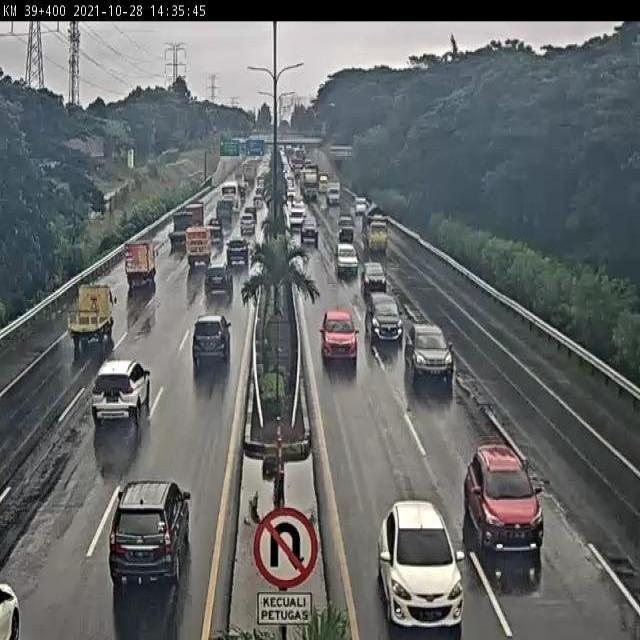big truck: (301, 169, 322, 204)
car: (367, 495, 466, 637), (94, 473, 200, 596), (463, 440, 550, 567), (89, 361, 167, 431), (405, 311, 455, 389), (0, 573, 46, 640), (186, 313, 233, 372), (366, 288, 406, 351), (317, 311, 361, 368), (220, 235, 252, 273), (360, 258, 390, 298), (205, 268, 233, 303), (332, 242, 357, 278), (336, 212, 357, 243), (299, 220, 324, 244), (230, 216, 258, 237), (206, 217, 224, 243), (289, 205, 304, 228), (352, 193, 366, 215)
small truck: (63, 281, 120, 352), (124, 234, 164, 286), (185, 227, 218, 269), (363, 206, 388, 253), (169, 214, 198, 247), (180, 197, 206, 227), (324, 181, 346, 208)
